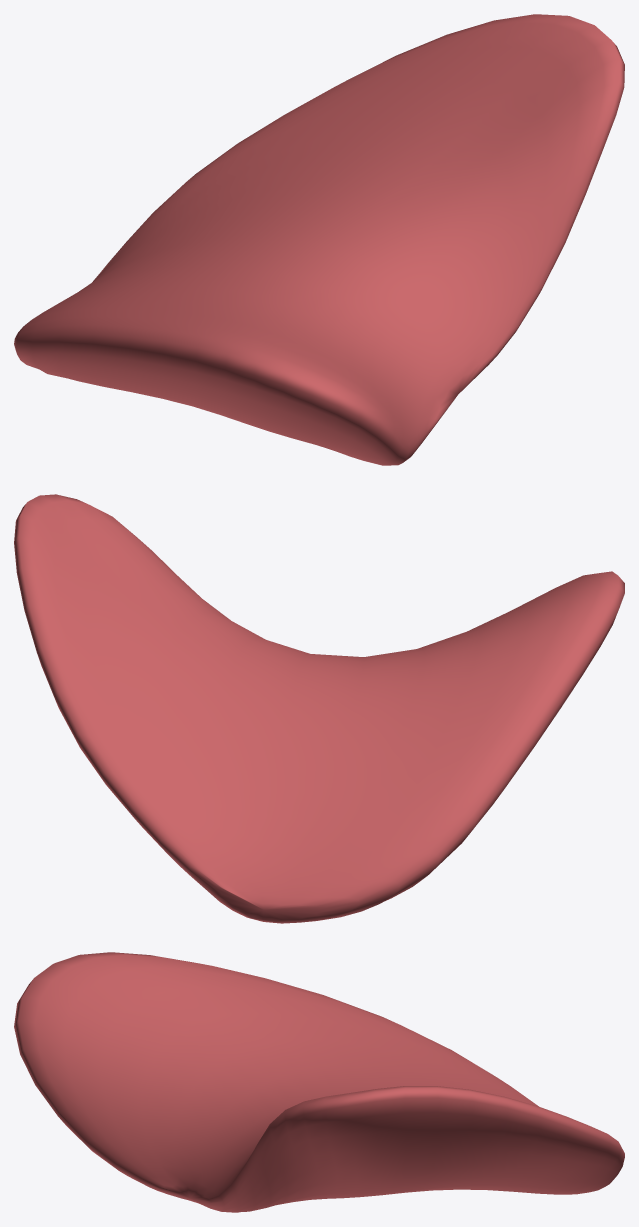
The picture shows the model from 3 angles, top to bottom: view 1: azimuth 30°, elevation 25°; view 2: azimuth 150°, elevation 25°; view 3: azimuth 270°, elevation 25°; orthographic projection. The views are drawn at different scales.
Parts seen in each view (by area): view 1: 右侧股二头肌上囊; view 2: 右侧股二头肌上囊; view 3: 右侧股二头肌上囊.
Boxes of the visible parts, x1,y1,x2,y2 form: 右侧股二头肌上囊: [14, 14, 624, 465]; 右侧股二头肌上囊: [14, 494, 624, 923]; 右侧股二头肌上囊: [14, 952, 624, 1212].
Size of the model in its own units: 0.0294 by 0.0153 by 0.0317.
